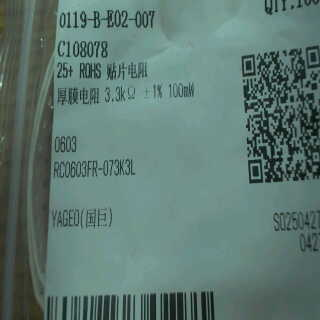3.3kO: (100, 80, 140, 106)
